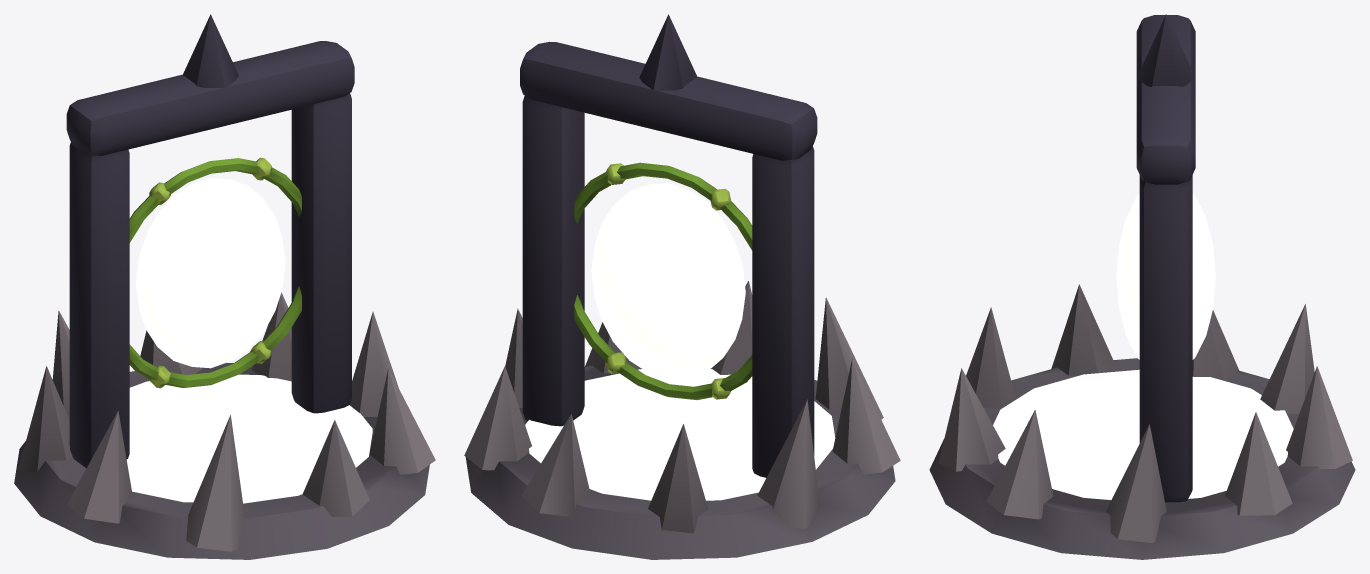
Rendered from lm_krater.glb.
3 renders of one model, left to right at view 1: azimuth 30°, elevation 25°; view 2: azimuth 150°, elevation 25°; view 3: azimuth 270°, elevation 25°, orthographic. The views are drawn at different scales.
Parts seen in each view (by area): view 1: body, pulse_core_glow, pool_glow, spin_ring; view 2: body, pulse_core_glow, pool_glow, spin_ring; view 3: body, pool_glow, pulse_core_glow.
Part boxes in pixels (left/top/right/bottom): body: left=14, top=14, right=435, bottom=559; pulse_core_glow: left=136, top=178, right=285, bottom=368; pool_glow: left=126, top=374, right=372, bottom=503; spin_ring: left=129, top=157, right=301, bottom=388; body: left=464, top=14, right=900, bottom=559; pulse_core_glow: left=591, top=183, right=745, bottom=379; pool_glow: left=525, top=369, right=835, bottom=500; spin_ring: left=574, top=162, right=752, bottom=400; body: left=929, top=14, right=1355, bottom=559; pool_glow: left=993, top=369, right=1293, bottom=499; pulse_core_glow: left=1116, top=194, right=1215, bottom=359.
Bounding box in the file's own units: 7.2 × 8.5 × 7.2.
